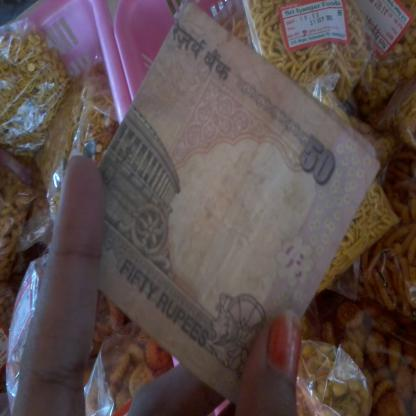Old50Back: (96, 0, 383, 407)
